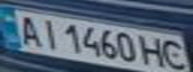0: (115, 29, 139, 64)
1: (57, 20, 84, 54)
4: (78, 25, 103, 57)
6: (96, 28, 121, 61)
A: (12, 12, 45, 47)
C: (157, 37, 193, 72)
H: (136, 34, 169, 70)
I: (33, 17, 63, 51)
